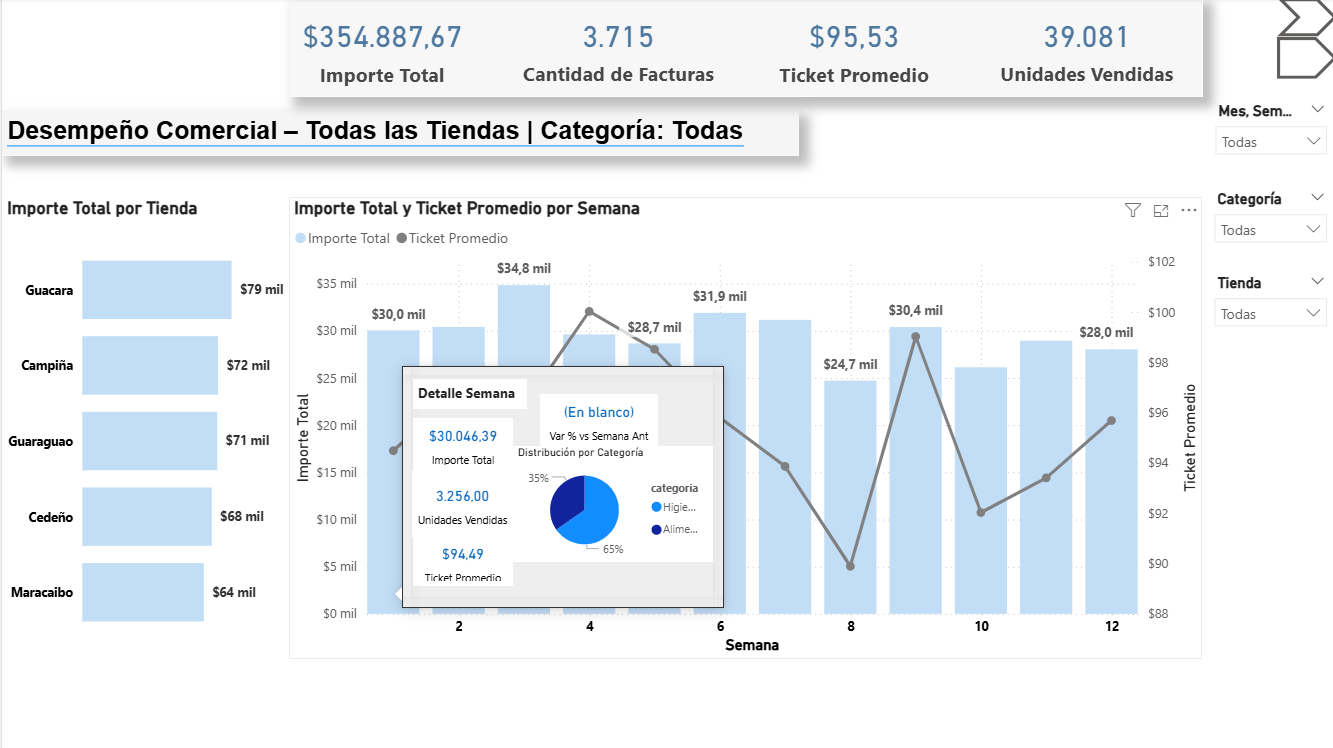

The dashboard page shown, as its layout file describes it:
{"tool":"powerbi","page":{"name":"Desempeño Comercial","canvas":[1280,720],"ordinal":0},"visuals":[{"type":"card","fields":{"Values":["Fact_ventas.Importe Total"]},"box":[250.6,0,228.6,95.2],"z":0},{"type":"slicer","fields":{"Values":["Fecha.Date.Variación.Jerarquía de fechas.Mes","Fecha.Semana"]},"box":[1152.8,95.2,127,56.1],"z":0,"group":"g1"},{"type":"card","fields":{"Values":["Fact_ventas.Unidades Vendidas"]},"box":[928.8,0,222.1,94.6],"z":1000},{"type":"slicer","fields":{"Values":["Maestro_productos.categoria"]},"box":[1152.2,180,127.6,62.2],"z":1000,"group":"g1"},{"type":"card","fields":{"Values":["Fact_ventas.Num_Ticket"]},"box":[479.3,0,223.4,94.6],"z":2000},{"type":"slicer","fields":{"Values":["Tiendas.nombre_tienda"]},"box":[1152.2,259.7,127.6,62.2],"z":2000,"group":"g1"},{"type":"card","fields":{"Values":["Fact_ventas.Ticket Promedio"]},"box":[706,0,222.8,95.2],"z":3000},{"type":"lineClusteredColumnComboChart","fields":{"Category":["Fecha.Semana"],"Y":["Fact_ventas.Importe Total"],"Y2":["Fact_ventas.Ticket Promedio"]},"box":[275.3,190.4,875.6,443],"z":4000},{"type":"clusteredBarChart","title":"Importe Total por Tienda","fields":{"Category":["Tiendas.nombre_tienda"],"Y":["Fact_ventas.Importe Total"]},"box":[0,190.4,275.3,443],"z":5000},{"type":"group","id":"g1","title":"Panel_filtros","box":[1152.2,95.2,127.6,226.7],"z":7000},{"type":"actionButton","title":"Filtros","box":[1222.1,0,57.6,36.9],"z":8000},{"type":"actionButton","box":[1222.1,36.9,57.6,40.2],"z":9000},{"type":"textbox","box":[0,108.4,763.9,42.9],"z":10000},{"type":"shape","box":[275.3,0,875.6,94.6],"z":11000}]}

Visuals, with their boxes in screenshot pixels (x1, y1, x2, y2), scaled from the page's 1280x720 canvas onto the 1333x748 screenshot:
card - Fact_ventas.Importe Total: (x1=261, y1=0, x2=499, y2=99)
slicer - Fecha.Date.Variación.Jerarquía de fechas.Mes x Fecha.Semana: (x1=1201, y1=99, x2=1332, y2=157)
card - Fact_ventas.Unidades Vendidas: (x1=967, y1=0, x2=1199, y2=98)
slicer - Maestro_productos.categoria: (x1=1200, y1=187, x2=1332, y2=252)
card - Fact_ventas.Num_Ticket: (x1=499, y1=0, x2=732, y2=98)
slicer - Tiendas.nombre_tienda: (x1=1200, y1=270, x2=1332, y2=334)
card - Fact_ventas.Ticket Promedio: (x1=735, y1=0, x2=967, y2=99)
lineClusteredColumnComboChart - Fecha.Semana x Fact_ventas.Importe Total: (x1=287, y1=198, x2=1199, y2=658)
"Importe Total por Tienda" clusteredBarChart: (x1=0, y1=198, x2=287, y2=658)
"Panel_filtros" group: (x1=1200, y1=99, x2=1332, y2=334)
"Filtros" actionButton: (x1=1273, y1=0, x2=1332, y2=38)
actionButton: (x1=1273, y1=38, x2=1332, y2=80)
textbox: (x1=0, y1=113, x2=796, y2=157)
shape: (x1=287, y1=0, x2=1199, y2=98)
